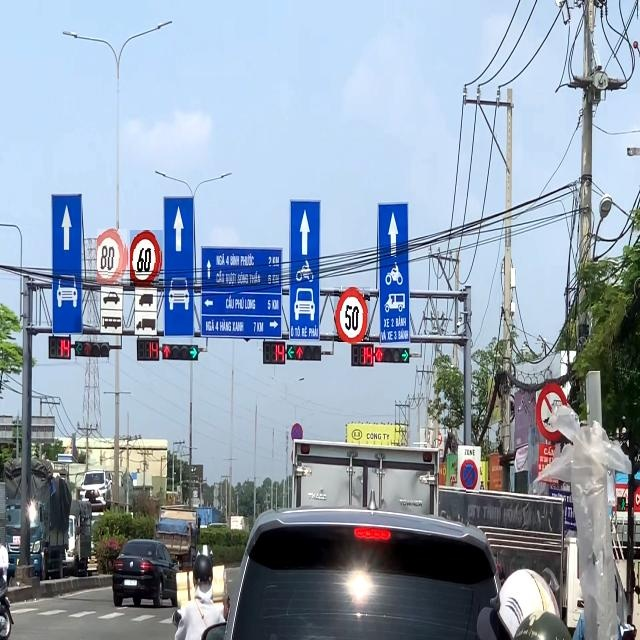bien_cam: (334, 287, 370, 342), (130, 230, 163, 286), (98, 229, 128, 284), (459, 457, 479, 493)
